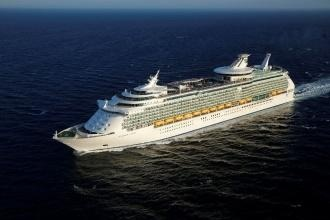youlun: (53, 51, 297, 154)
